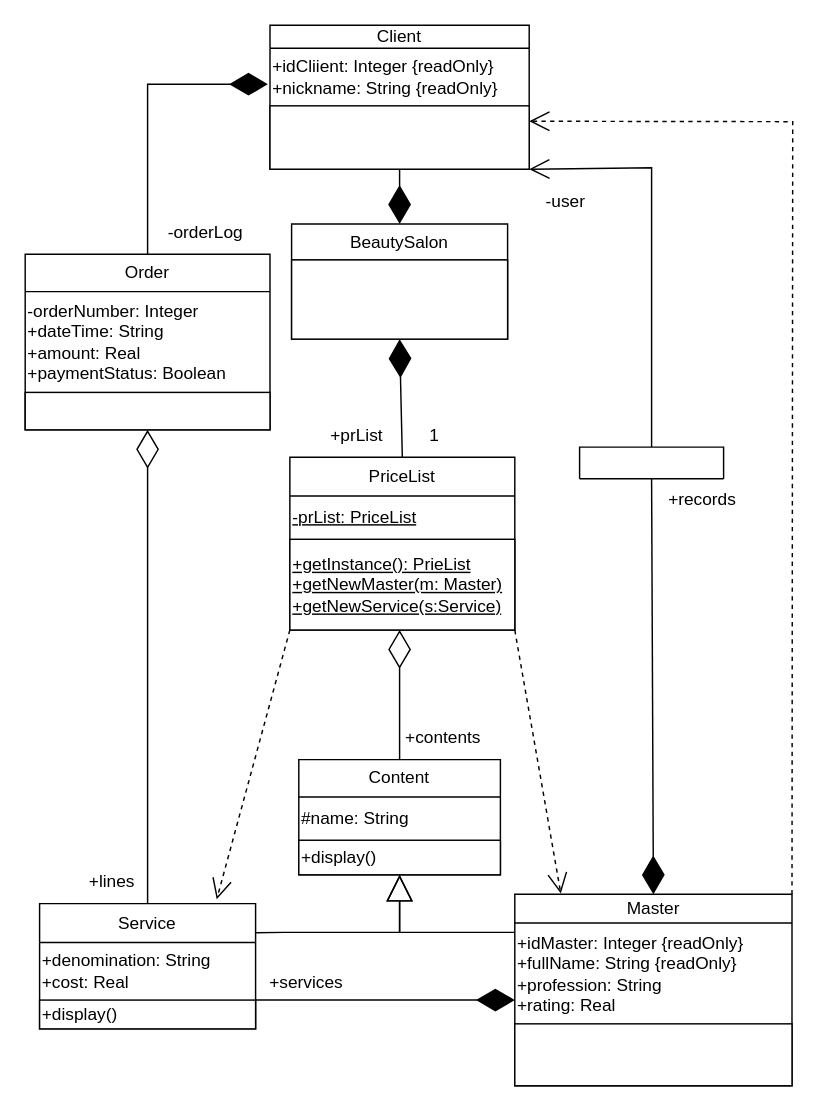
The diagram is 838 pixels wide and 1112 high, and some of its shapes have lost their labels. The centre of each missing label's shape, as x and y in pixels:
"+change(s:Service)" belongs at [147,410].
"+getFeedback(c:Client):Feedback +display()" belongs at [652,1054].
"+getInfo(): String +addNewClientWithOrder()" belongs at [399,298].
"+payTheBill(o: Order) +addNewOrder()" belongs at [399,136].
"Feedback" belongs at [651,462].
